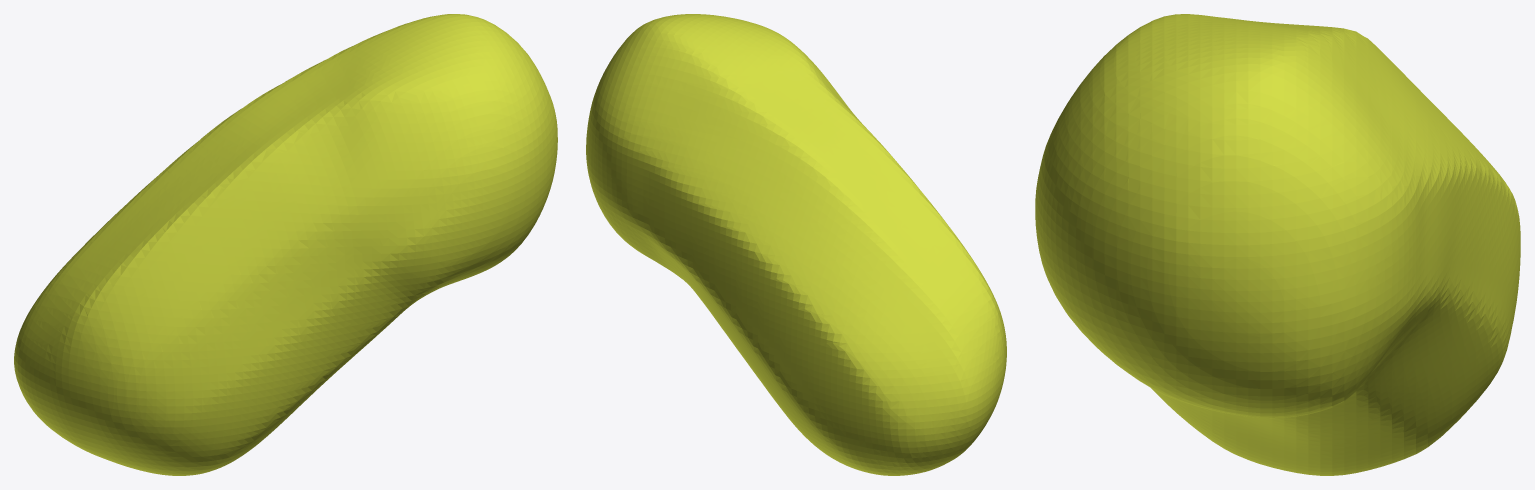
The model's file is hand_part_10.glb.
3 views of the same model, side by side, from view 1: azimuth 30°, elevation 25°; view 2: azimuth 150°, elevation 25°; view 3: azimuth 270°, elevation 25° (orthographic). The views are drawn at different scales.
Size of the model in its own units: 0.039 by 0.0315 by 0.0235.
